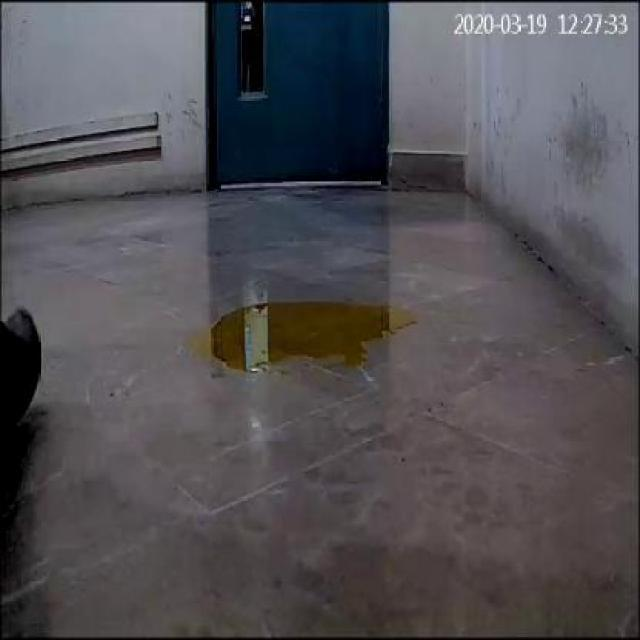spill: (192, 302, 423, 370)
